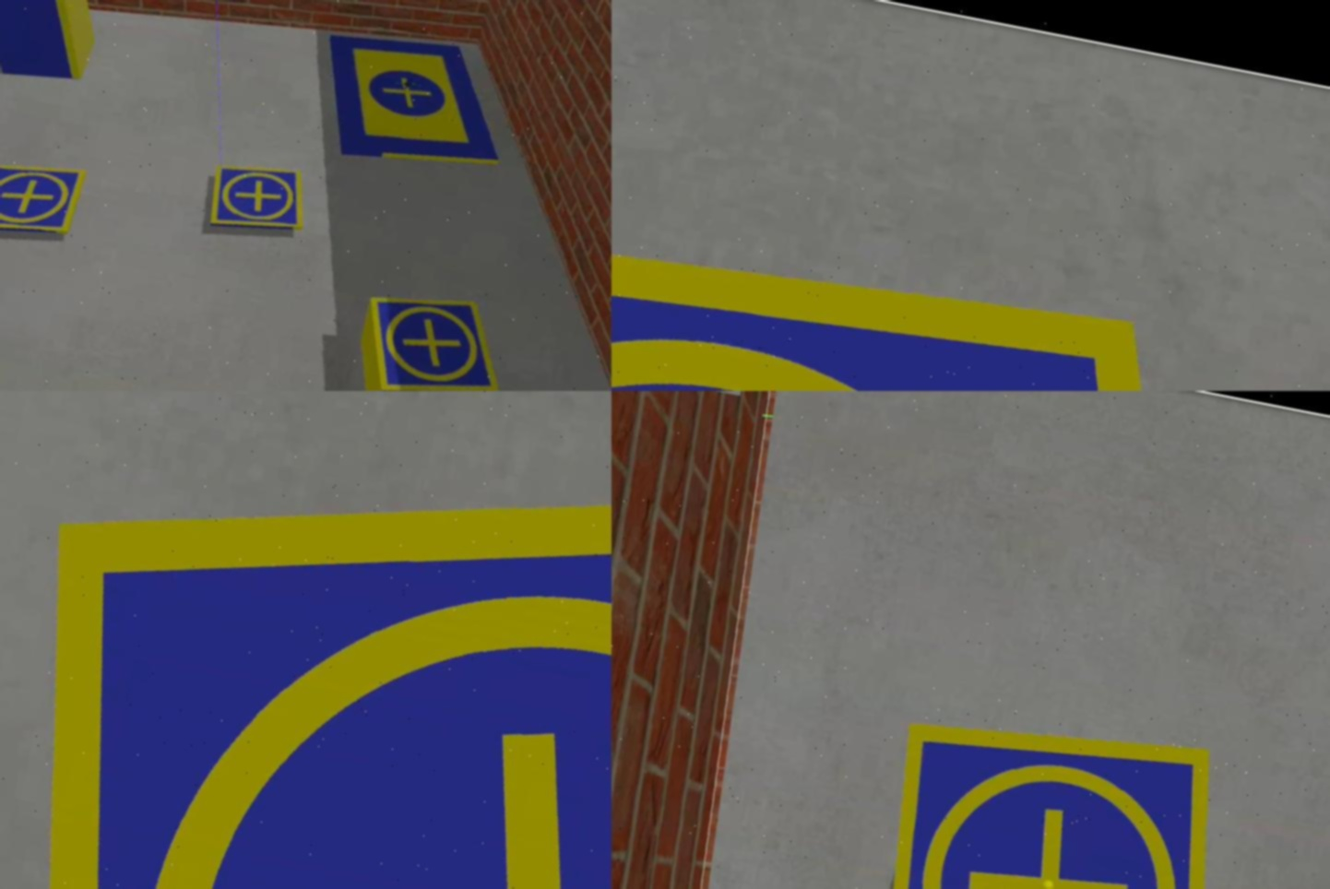large_base: (311, 23, 520, 187)
small_base: (1, 391, 612, 889), (612, 136, 1325, 391), (842, 695, 1261, 889), (353, 282, 517, 391), (200, 160, 311, 247), (1, 150, 86, 253)
